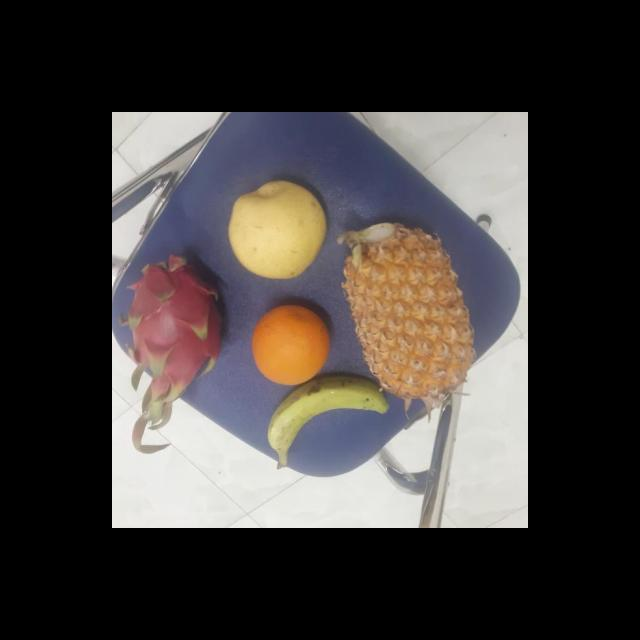banana: (269, 378, 388, 468)
orange: (250, 303, 334, 384)
pear: (232, 181, 336, 278)
pineapple: (342, 219, 478, 398)
pitaya: (118, 250, 232, 400)
